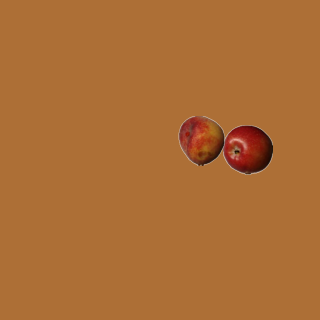Apple Braeburn: (222, 124, 272, 174)
Peach: (176, 115, 226, 165)
